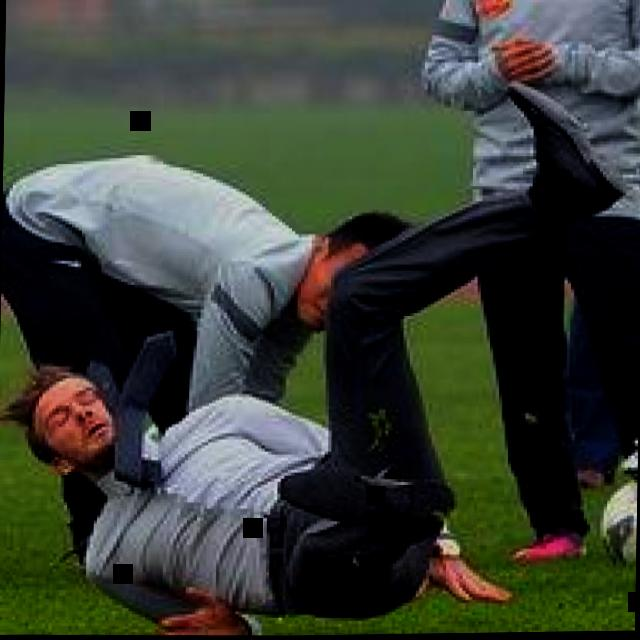Fall-Detected: (8, 338, 506, 640)
